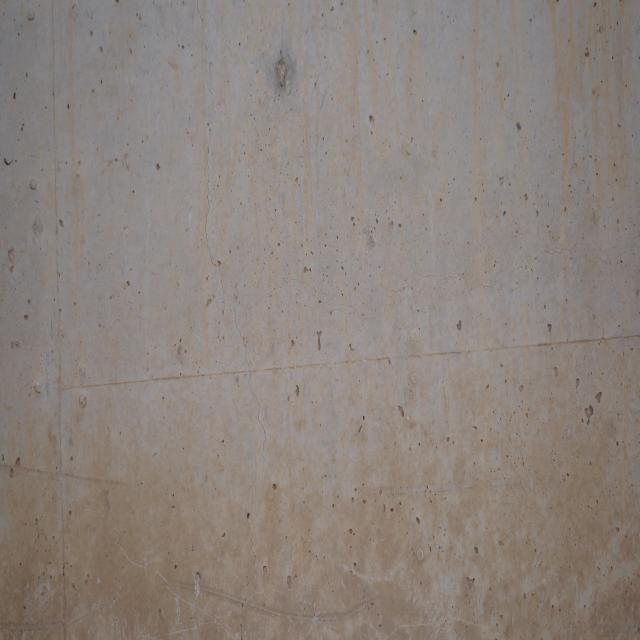horizontal crack: (243, 268, 528, 315)
multi-branched crack: (524, 194, 629, 322)
vertical crack: (195, 0, 228, 350), (235, 302, 263, 488)
